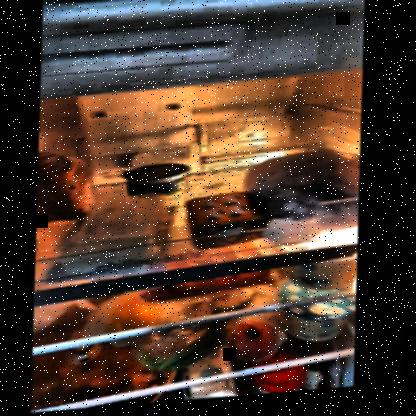butter: (187, 194, 269, 240)
carrot: (145, 276, 277, 304)
cheese: (70, 204, 173, 250)
green_chillies: (137, 338, 229, 370)
lemon: (107, 302, 167, 333)
tomato: (230, 327, 284, 362)
yoghurt: (288, 306, 359, 347), (123, 165, 192, 200)
